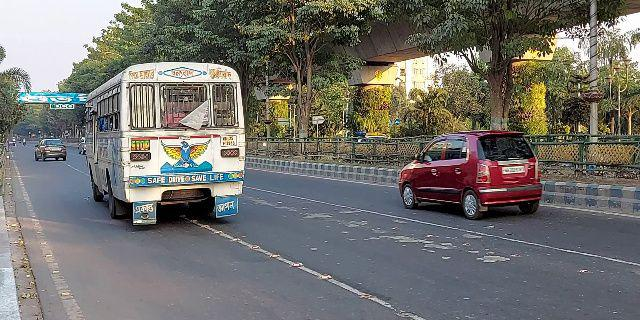Bus: (83, 59, 247, 230)
Car: (394, 128, 547, 222), (32, 136, 70, 165)
